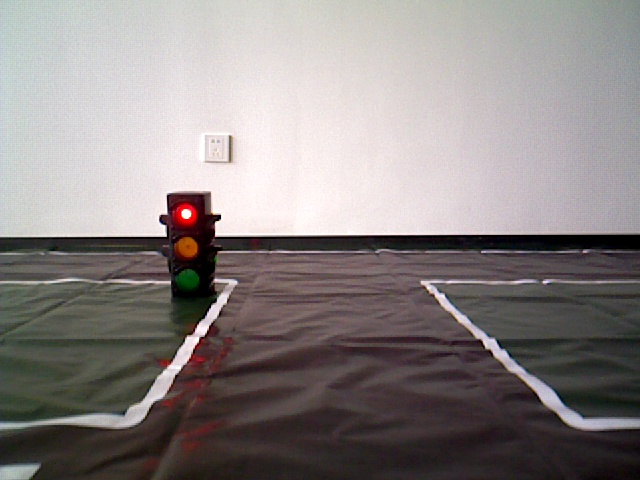red: (167, 195, 209, 295)
